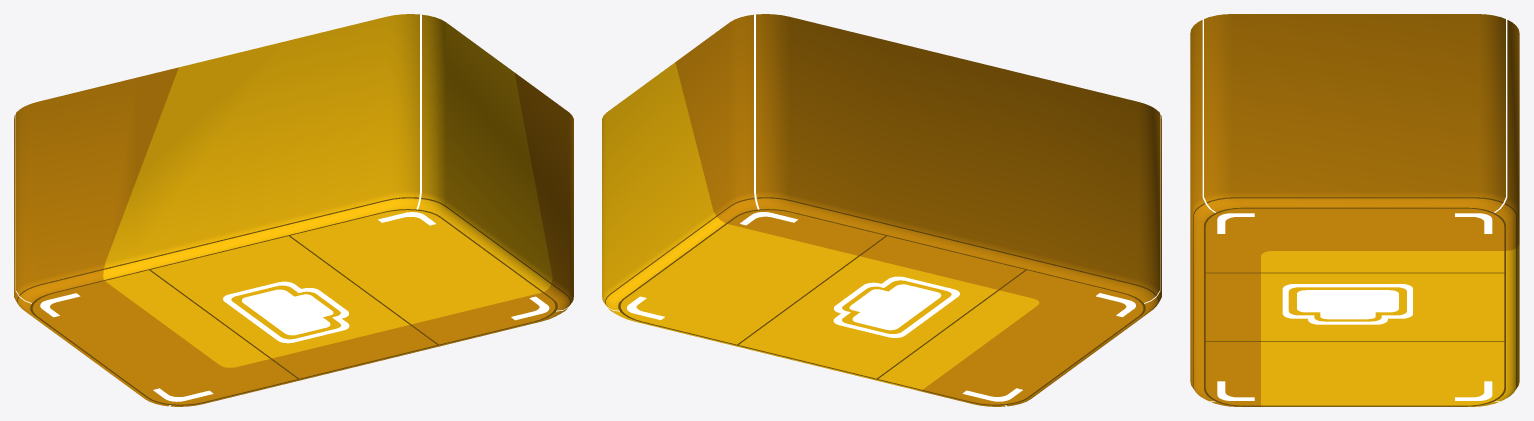
Rendered from battery_interior.glb.
3 renders of one model, left to right at view 1: azimuth 30°, elevation 25°; view 2: azimuth 150°, elevation 25°; view 3: azimuth 270°, elevation 25°, orthographic.
Visible parts, largest first — view 1: Cylinder.013, Cylinder.021, Cylinder.004; view 2: Cylinder.013, Cylinder.021, Cylinder.004; view 3: Cylinder.013, Cylinder.021, Cylinder.004.
Part boxes in pixels (left/top/right/bottom): Cylinder.013: left=14, top=14, right=573, bottom=406; Cylinder.021: left=223, top=281, right=349, bottom=343; Cylinder.004: left=40, top=212, right=549, bottom=401; Cylinder.013: left=602, top=14, right=1161, bottom=406; Cylinder.021: left=833, top=276, right=959, bottom=337; Cylinder.004: left=627, top=212, right=1135, bottom=401; Cylinder.013: left=1190, top=14, right=1519, bottom=406; Cylinder.021: left=1282, top=284, right=1412, bottom=324; Cylinder.004: left=1217, top=213, right=1492, bottom=400.
Size of what is drawn, in the model's own units: 205 by 87.29 by 136.
